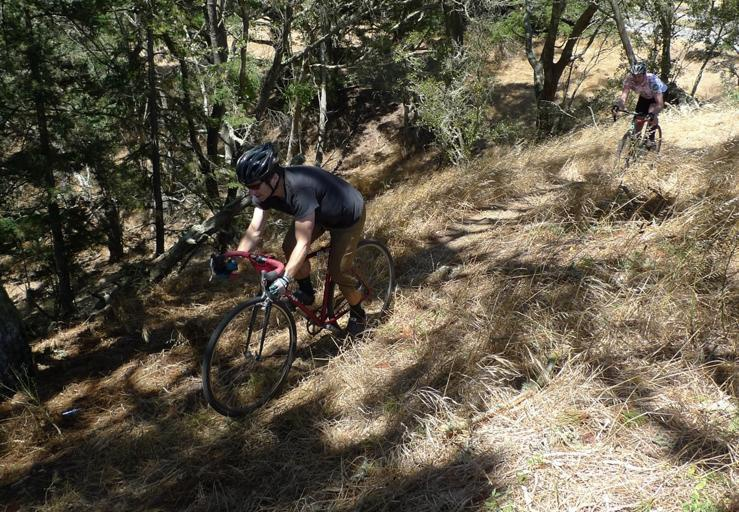non-vehicle: (202, 231, 393, 421), (611, 105, 660, 161)
